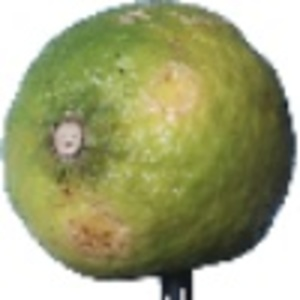limão: (1, 1, 299, 300)
